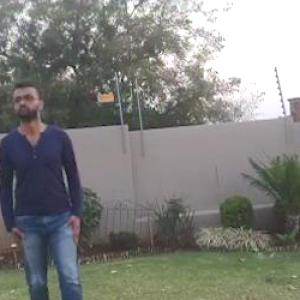follow: (1, 78, 96, 299)
